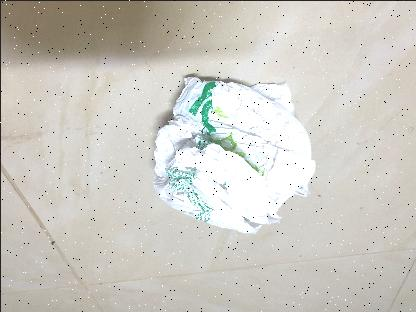Others: (150, 70, 318, 236)
